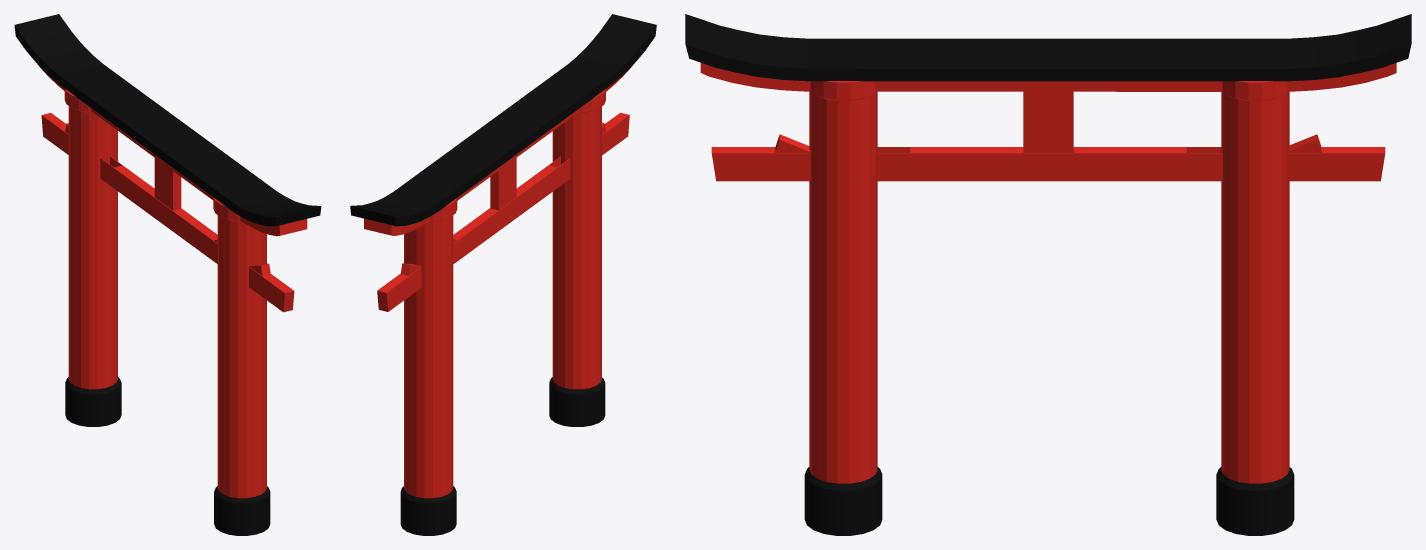
The model's file is TempleGate_00.FBX.
The picture shows the model from 3 angles, left to right: view 1: azimuth 30°, elevation 25°; view 2: azimuth 150°, elevation 25°; view 3: azimuth 270°, elevation 25°; orthographic projection. The views are drawn at different scales.
Visible parts, largest first — view 1: Box001; view 2: Box001; view 3: Box001.
Boxes of the visible parts, x1,y1,x2,y2 form: Box001: (14, 14, 321, 535); Box001: (350, 14, 656, 535); Box001: (685, 14, 1411, 535).
Bounding box in the file's own units: 10.54 × 72.74 × 97.56.
